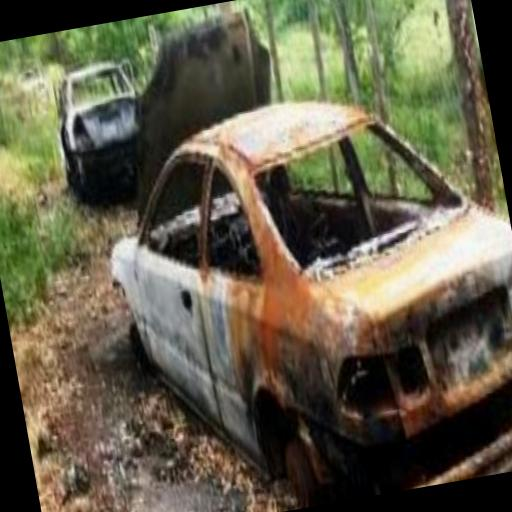segmentation: (178, 128, 498, 425), (220, 136, 312, 364), (390, 332, 507, 434)
